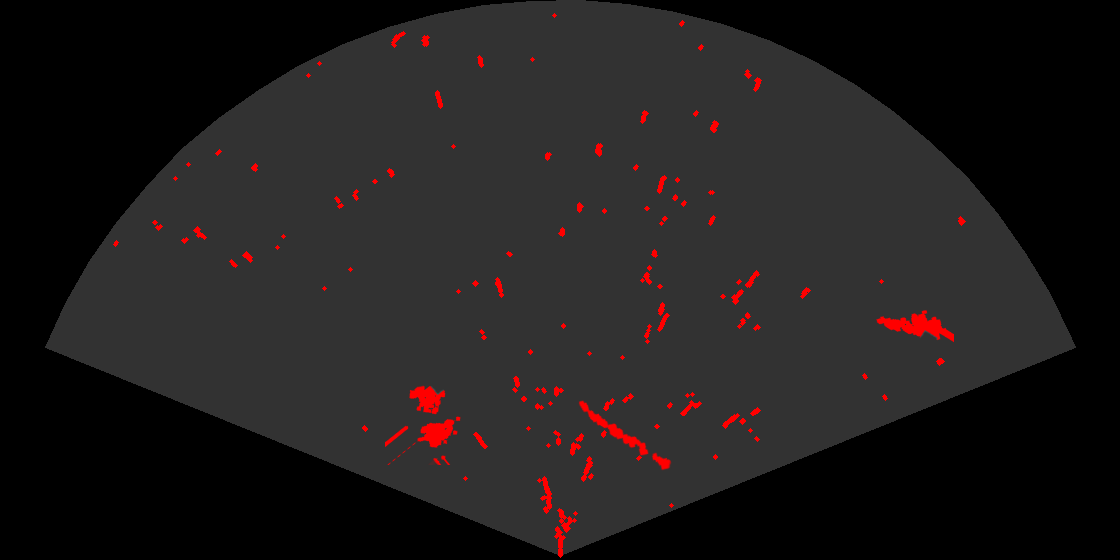cage: (385, 384, 462, 465)
chain: (577, 399, 673, 472)
frogman: (875, 309, 954, 344)
